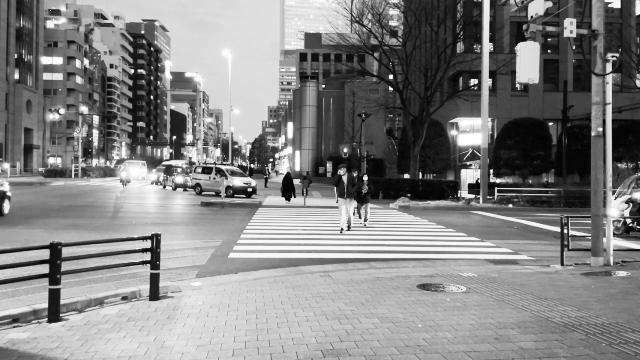berjalan: (334, 165, 360, 234), (354, 175, 374, 226)
